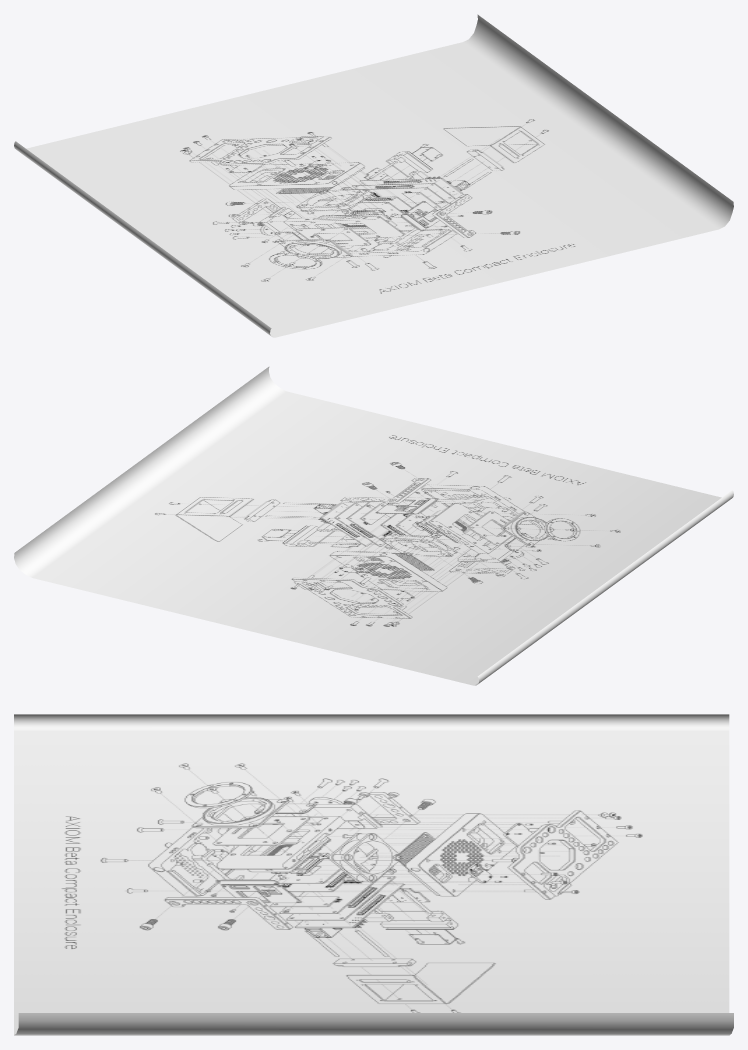
The model's file is enclosure_drawing_v01.gltf.
3 renders of one model, top to bottom at view 1: azimuth 30°, elevation 25°; view 2: azimuth 150°, elevation 25°; view 3: azimuth 270°, elevation 25°, orthographic. The views are drawn at different scales.
Visible parts, largest first — view 1: Plane; view 2: Plane; view 3: Plane.
Part boxes in pixels (<box>): Plane: <box>14,14,733,337</box>; Plane: <box>14,366,733,685</box>; Plane: <box>14,714,733,1035</box>.
Bounding box in the file's own units: 0.021 × 0.000974 × 0.0201.
